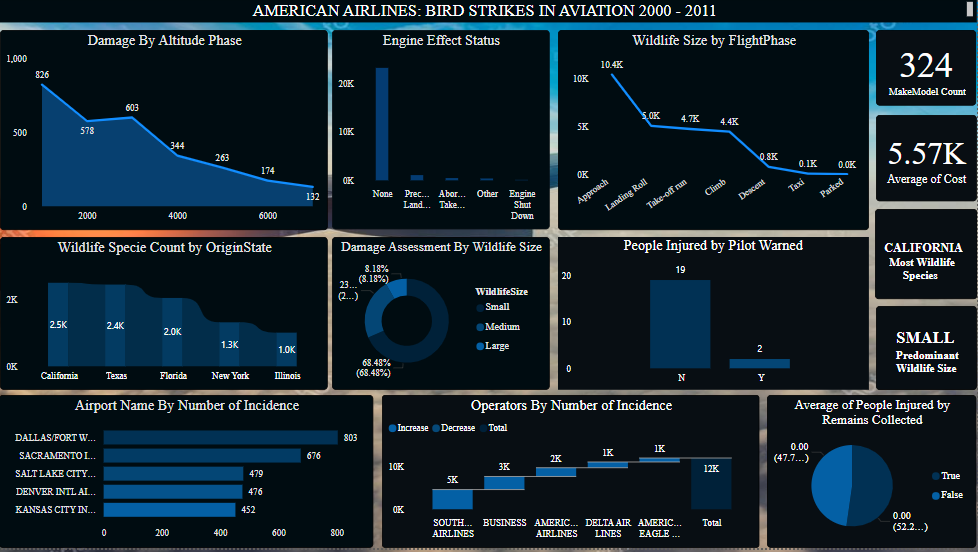

This screenshot's page, from the dashboard's own definition file:
{"tool":"powerbi","page":{"name":"Page 1","canvas":[1280,720],"ordinal":0},"visuals":[{"type":"textbox","box":[0,0,1280,31.7],"z":0},{"type":"barChart","title":"Airport Name By Number of  Incidence","fields":{"Y":["CountNonNull(Bird_strikes.NumberStruckActual)"],"Category":["Bird_strikes.AirportName"]},"box":[0,520.3,490,199.6],"z":1000},{"type":"areaChart","title":"Damage By Altitude Phase","fields":{"Category":["Bird_strikes.Altitude"],"Y":["CountNonNull(Bird_strikes.Damage)"]},"box":[1.3,41.9,429.4,261.8],"z":3000},{"type":"donutChart","title":"Damage Assessment By Wildlife Size","fields":{"Y":["CountNonNull(Bird_strikes.Damage)"],"Category":["Bird_strikes.WildlifeSize"]},"box":[435.6,313,284.8,200.2],"z":4000},{"type":"ribbonChart","title":"Wildlife Specie Count by OriginState","fields":{"Category":["Bird_strikes.OriginState"],"Y":["CountNonNull(Bird_strikes.WildlifeSpecies)"]},"box":[1.3,312.9,429.4,200.3],"z":5000},{"type":"waterfallChart","title":" Operators By Number of Incidence","fields":{"Category":["Bird_strikes.Operator"],"Y":["CountNonNull(Bird_strikes.NumberStruckActual)"]},"box":[501,520.3,494.1,199.6],"z":7000},{"type":"ribbonChart","title":"Engine Effect Status","fields":{"Category":["Bird_strikes.Effect"],"Y":["CountNonNull(Bird_strikes.Engines)"]},"box":[435.6,42.3,284.8,260.8],"z":8000},{"type":"lineChart","title":"Wildlife Size by FlightPhase","fields":{"Category":["Bird_strikes.FlightPhase"],"Y":["CountNonNull(Bird_strikes.WildlifeSize)"]},"box":[731.8,41.9,407.1,261.8],"z":9000},{"type":"card","fields":{"Values":["Count(Bird_strikes.MakeModel)"]},"box":[1148.1,41.9,130.9,99.5],"z":10000},{"type":"pieChart","fields":{"Category":["Bird_strikes.RemainsCollected?"],"Y":["Avg(Bird_strikes.PeopleInjured)"]},"box":[1004.7,520.3,273.9,199.6],"z":11000},{"type":"card","fields":{"Values":["Avg(Bird_strikes.Cost)"]},"box":[1148.1,153.2,132.2,112.6],"z":12000},{"type":"textbox","box":[1146.8,276.2,133.5,117.8],"z":13000},{"type":"textbox","box":[1148.1,403.2,132.2,110],"z":13001},{"type":"columnChart","title":"People Injured by Pilot Warned","fields":{"Y":["Sum(Bird_strikes.PeopleInjured)"],"Category":["Bird_strikes.PilotWarned"]},"box":[732.4,312.4,406.5,199.9],"z":13002}]}

Visuals, with their boxes in screenshot pixels (x1, y1, x2, y2), scaled from the page's 1280x720 canvas onto the 978x552 screenshot:
textbox: (0, 0, 977, 24)
"Airport Name By Number of  Incidence" barChart: (0, 399, 374, 551)
"Damage By Altitude Phase" areaChart: (1, 32, 329, 233)
"Damage Assessment By Wildlife Size" donutChart: (333, 240, 550, 393)
"Wildlife Specie Count by OriginState" ribbonChart: (1, 240, 329, 393)
" Operators By Number of Incidence" waterfallChart: (383, 399, 760, 551)
"Engine Effect Status" ribbonChart: (333, 32, 550, 232)
"Wildlife Size by FlightPhase" lineChart: (559, 32, 870, 233)
card - Count(Bird_strikes.MakeModel): (877, 32, 977, 108)
pieChart - Bird_strikes.RemainsCollected? x Avg(Bird_strikes.PeopleInjured): (768, 399, 977, 551)
card - Avg(Bird_strikes.Cost): (877, 117, 977, 204)
textbox: (876, 212, 977, 302)
textbox: (877, 309, 977, 393)
"People Injured by Pilot Warned" columnChart: (560, 240, 870, 393)
